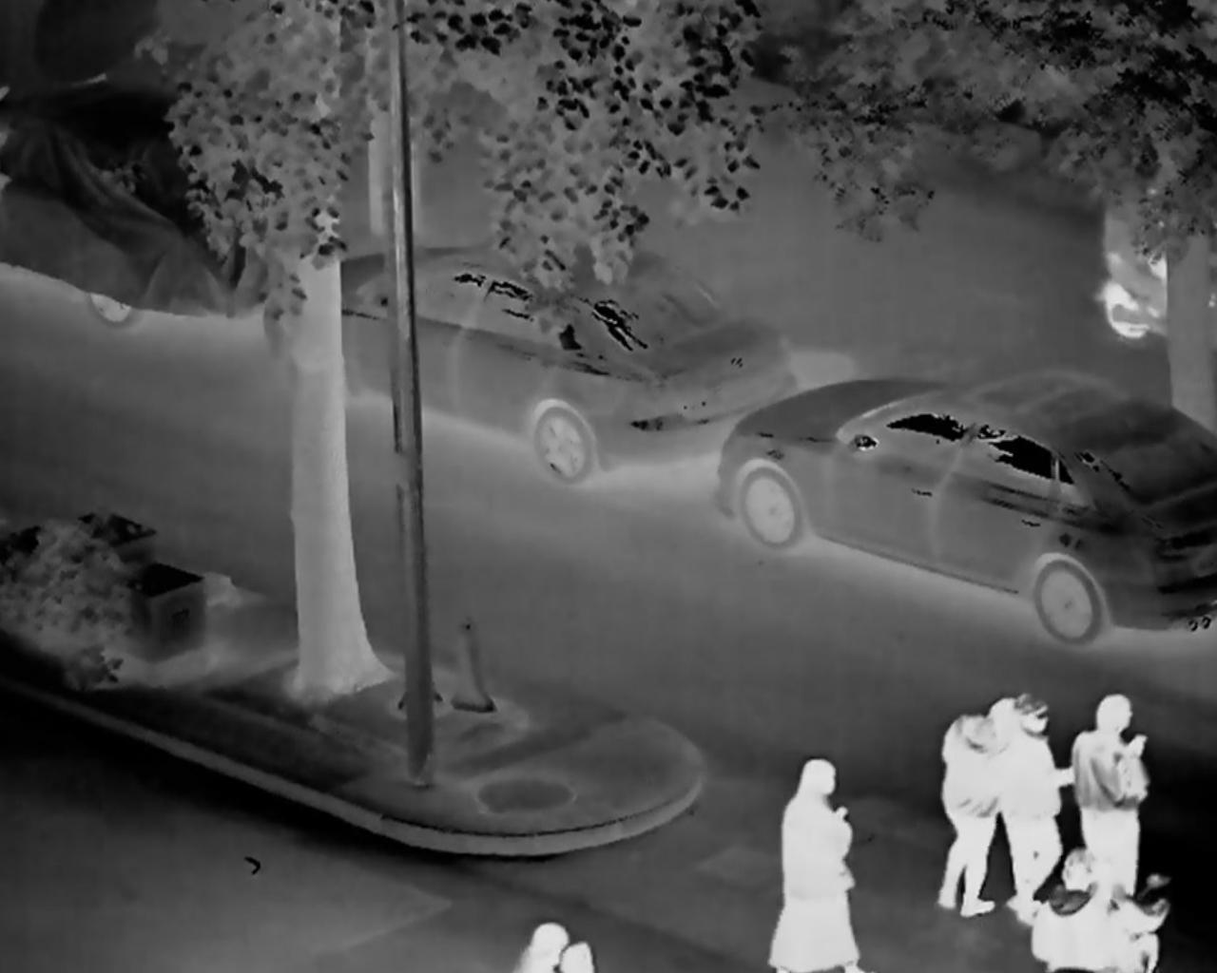person: (781, 751, 864, 973), (1058, 681, 1144, 889), (1018, 847, 1155, 973), (995, 688, 1067, 921), (929, 704, 1002, 919), (1103, 166, 1169, 321), (510, 911, 566, 973), (558, 928, 607, 973)
